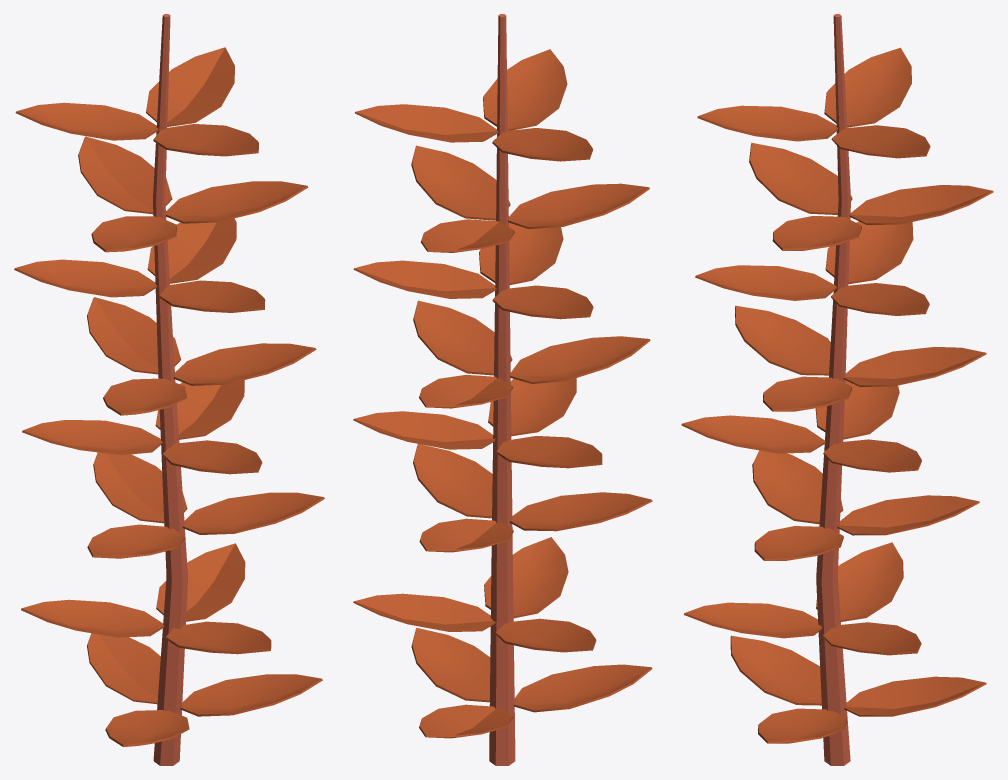
File: Seaweed_03.fbx
3 renders of one model, left to right at view 1: azimuth 30°, elevation 25°; view 2: azimuth 150°, elevation 25°; view 3: azimuth 270°, elevation 25°, orthographic.
Parts seen in each view (by area): view 1: Seaweed_03_LOD0; view 2: Seaweed_03_LOD0; view 3: Seaweed_03_LOD0.
Boxes of the visible parts, bbox=[...] form: Seaweed_03_LOD0: bbox=[14, 14, 324, 765]; Seaweed_03_LOD0: bbox=[353, 14, 652, 765]; Seaweed_03_LOD0: bbox=[681, 14, 993, 765].
Size of what is drawn, in the model's own units: 0.3365 by 0.9827 by 0.3731.
